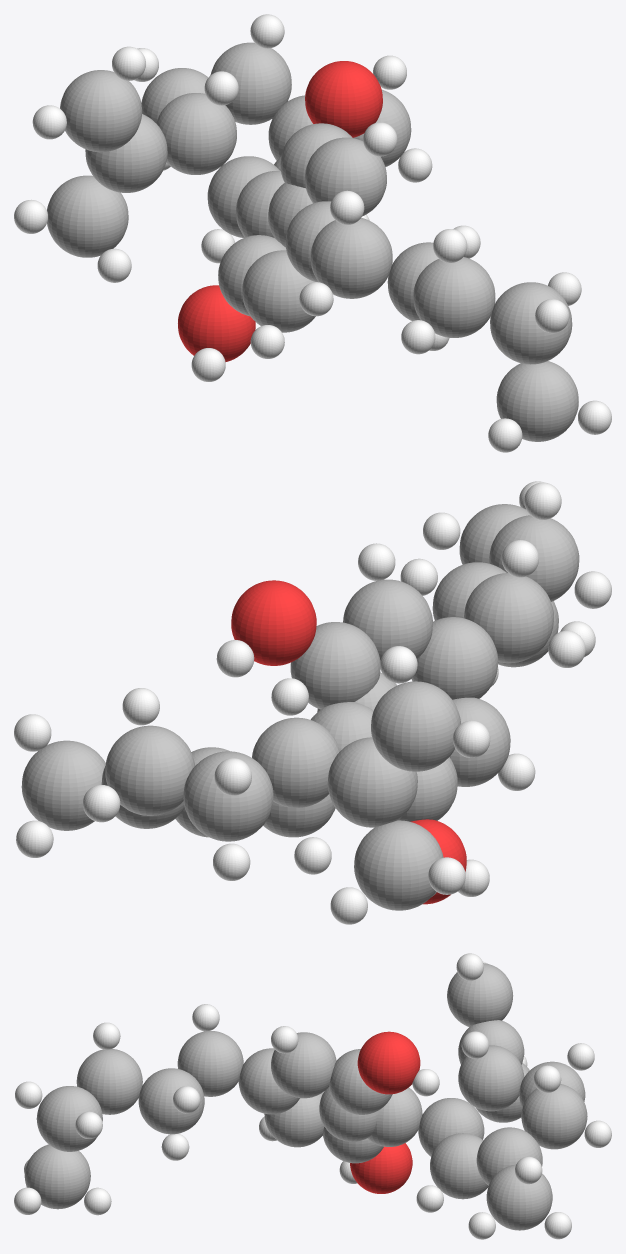
The model's file is CBD_blender.fbx.
3 views of the same model, one above another, from view 1: azimuth 30°, elevation 25°; view 2: azimuth 150°, elevation 25°; view 3: azimuth 270°, elevation 25° (orthographic). The views are drawn at different scales.
Visible parts, largest first — view 1: Carbon_mesh|Carbon_ball|Dupli|8, Carbon_mesh|Carbon_ball|Dupli|9, Carbon_mesh|Carbon_ball|Dupli|18, Carbon_mesh|Carbon_ball|Dupli|16, Carbon_mesh|Carbon_ball|Dupli|20, Carbon_mesh|Carbon_ball|Dupli|4, Carbon_mesh|Carbon_ball|Dupli|19, Oxygen_mesh|Oxygen_ball|Dupli|, Carbon_mesh|Carbon_ball|Dupli|6, Carbon_mesh|Carbon_ball|Dupli|12, Carbon_mesh|Carbon_ball|Dupli|14, Oxygen_mesh|Oxygen_ball|Dupli|1 (+31 smaller); view 2: Carbon_mesh|Carbon_ball|Dupli|8, Carbon_mesh|Carbon_ball|Dupli|6, Carbon_mesh|Carbon_ball|Dupli|9, Carbon_mesh|Carbon_ball|Dupli|7, Carbon_mesh|Carbon_ball|Dupli|16, Carbon_mesh|Carbon_ball|Dupli|4, Oxygen_mesh|Oxygen_ball|Dupli|, Carbon_mesh|Carbon_ball|Dupli|, Carbon_mesh|Carbon_ball|Dupli|11, Carbon_mesh|Carbon_ball|Dupli|5, Carbon_mesh|Carbon_ball|Dupli|13, Carbon_mesh|Carbon_ball|Dupli|12 (+32 smaller); view 3: Carbon_mesh|Carbon_ball|Dupli|6, Carbon_mesh|Carbon_ball|Dupli|4, Carbon_mesh|Carbon_ball|Dupli|20, Carbon_mesh|Carbon_ball|Dupli|18, Carbon_mesh|Carbon_ball|Dupli|16, Carbon_mesh|Carbon_ball|Dupli|12, Oxygen_mesh|Oxygen_ball|Dupli|, Carbon_mesh|Carbon_ball|Dupli|, Carbon_mesh|Carbon_ball|Dupli|8, Carbon_mesh|Carbon_ball|Dupli|17, Carbon_mesh|Carbon_ball|Dupli|19, Carbon_mesh|Carbon_ball|Dupli|2 (+31 smaller).
Part boxes in pixels (x1,y1,x2,y2): Carbon_mesh|Carbon_ball|Dupli|8: [60, 70, 141, 152]; Carbon_mesh|Carbon_ball|Dupli|9: [47, 175, 128, 257]; Carbon_mesh|Carbon_ball|Dupli|18: [413, 257, 495, 337]; Carbon_mesh|Carbon_ball|Dupli|16: [310, 217, 392, 298]; Carbon_mesh|Carbon_ball|Dupli|20: [496, 361, 578, 441]; Carbon_mesh|Carbon_ball|Dupli|4: [156, 93, 236, 174]; Carbon_mesh|Carbon_ball|Dupli|19: [490, 282, 572, 364]; Oxygen_mesh|Oxygen_ball|Dupli|: [305, 61, 382, 137]; Carbon_mesh|Carbon_ball|Dupli|6: [210, 42, 291, 124]; Carbon_mesh|Carbon_ball|Dupli|12: [305, 137, 386, 216]; Carbon_mesh|Carbon_ball|Dupli|14: [242, 250, 315, 332]; Oxygen_mesh|Oxygen_ball|Dupli|1: [178, 285, 255, 361]; Carbon_mesh|Carbon_ball|Dupli|8: [371, 681, 460, 771]; Carbon_mesh|Carbon_ball|Dupli|6: [105, 725, 195, 815]; Carbon_mesh|Carbon_ball|Dupli|9: [354, 820, 443, 910]; Carbon_mesh|Carbon_ball|Dupli|7: [327, 737, 417, 827]; Carbon_mesh|Carbon_ball|Dupli|16: [464, 573, 553, 663]; Carbon_mesh|Carbon_ball|Dupli|4: [252, 717, 339, 807]; Oxygen_mesh|Oxygen_ball|Dupli|: [231, 580, 316, 665]; Carbon_mesh|Carbon_ball|Dupli|: [21, 740, 105, 830]; Carbon_mesh|Carbon_ball|Dupli|11: [290, 622, 380, 709]; Carbon_mesh|Carbon_ball|Dupli|5: [183, 751, 273, 841]; Carbon_mesh|Carbon_ball|Dupli|13: [411, 617, 498, 699]; Carbon_mesh|Carbon_ball|Dupli|12: [343, 579, 432, 660]; Carbon_mesh|Carbon_ball|Dupli|6: [521, 1084, 587, 1149]; Carbon_mesh|Carbon_ball|Dupli|4: [458, 1045, 524, 1111]; Carbon_mesh|Carbon_ball|Dupli|20: [24, 1144, 90, 1209]; Carbon_mesh|Carbon_ball|Dupli|18: [76, 1049, 142, 1114]; Carbon_mesh|Carbon_ball|Dupli|16: [177, 1031, 243, 1096]; Carbon_mesh|Carbon_ball|Dupli|12: [271, 1032, 336, 1098]; Oxygen_mesh|Oxygen_ball|Dupli|: [357, 1031, 420, 1094]; Carbon_mesh|Carbon_ball|Dupli|: [486, 1164, 552, 1230]; Carbon_mesh|Carbon_ball|Dupli|8: [447, 963, 513, 1026]; Carbon_mesh|Carbon_ball|Dupli|17: [138, 1068, 204, 1134]; Carbon_mesh|Carbon_ball|Dupli|19: [36, 1086, 102, 1151]; Carbon_mesh|Carbon_ball|Dupli|2: [430, 1133, 488, 1199].
Bounding box in the file's own units: 863 × 579 × 1392.
